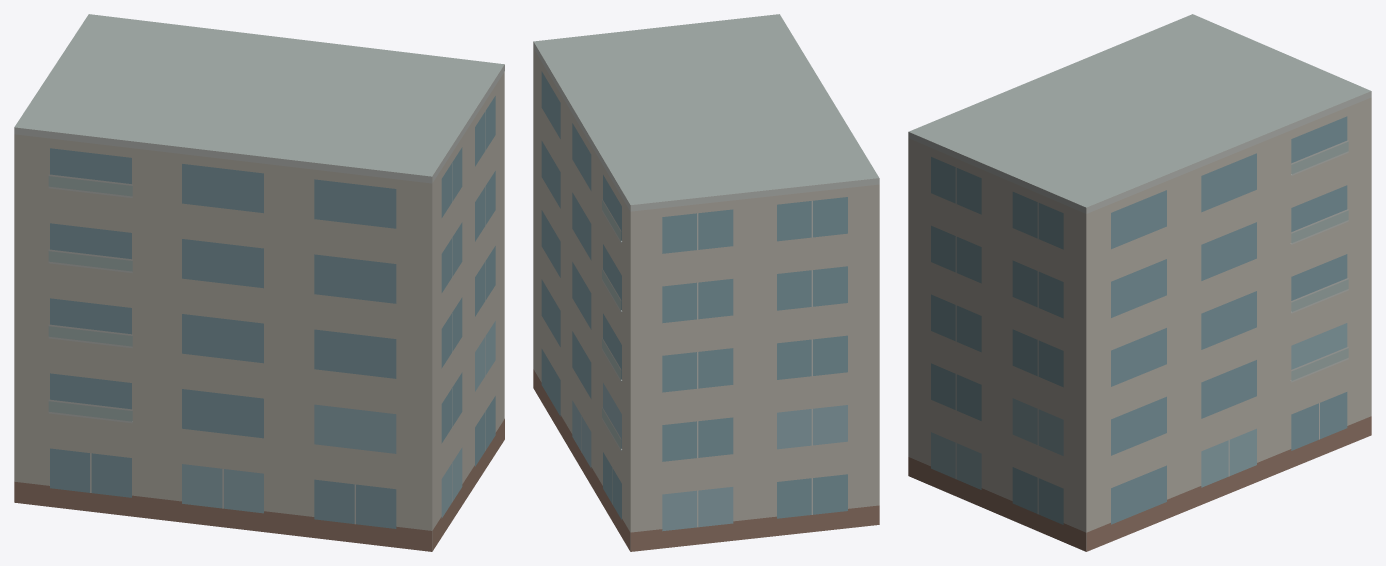
File: survey-upis-32849466.glb
The picture shows the model from 3 angles, left to right: view 1: azimuth 30°, elevation 25°; view 2: azimuth 150°, elevation 25°; view 3: azimuth 270°, elevation 25°; orthographic projection. The views are drawn at different scales.
Visible parts, largest first — view 1: survey-upis-32849466.tmp; view 2: survey-upis-32849466.tmp; view 3: survey-upis-32849466.tmp.
Part boxes in pixels (<box>): survey-upis-32849466.tmp: <box>14,14,504,551</box>; survey-upis-32849466.tmp: <box>533,14,879,551</box>; survey-upis-32849466.tmp: <box>908,14,1371,551</box>.
Bounding box in the file's own units: 15.93 × 13.2 × 16.1.
